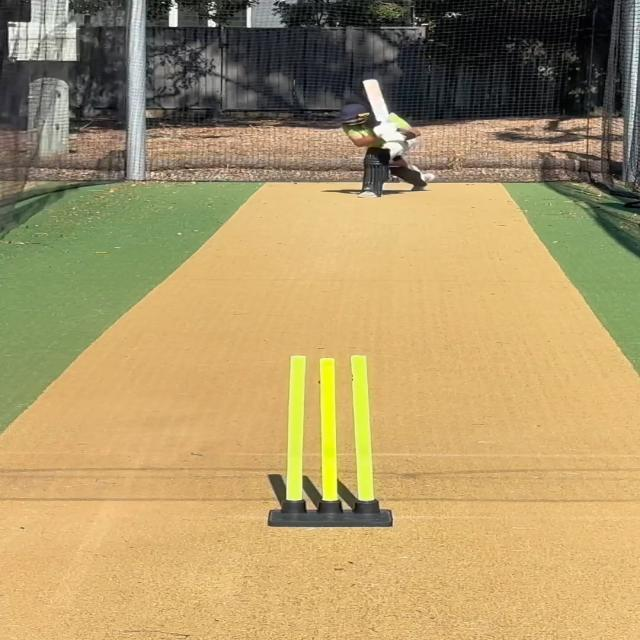stump: (265, 352, 394, 526)
